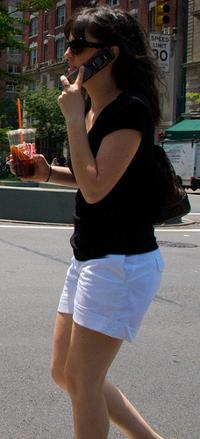person: (10, 8, 190, 439)
